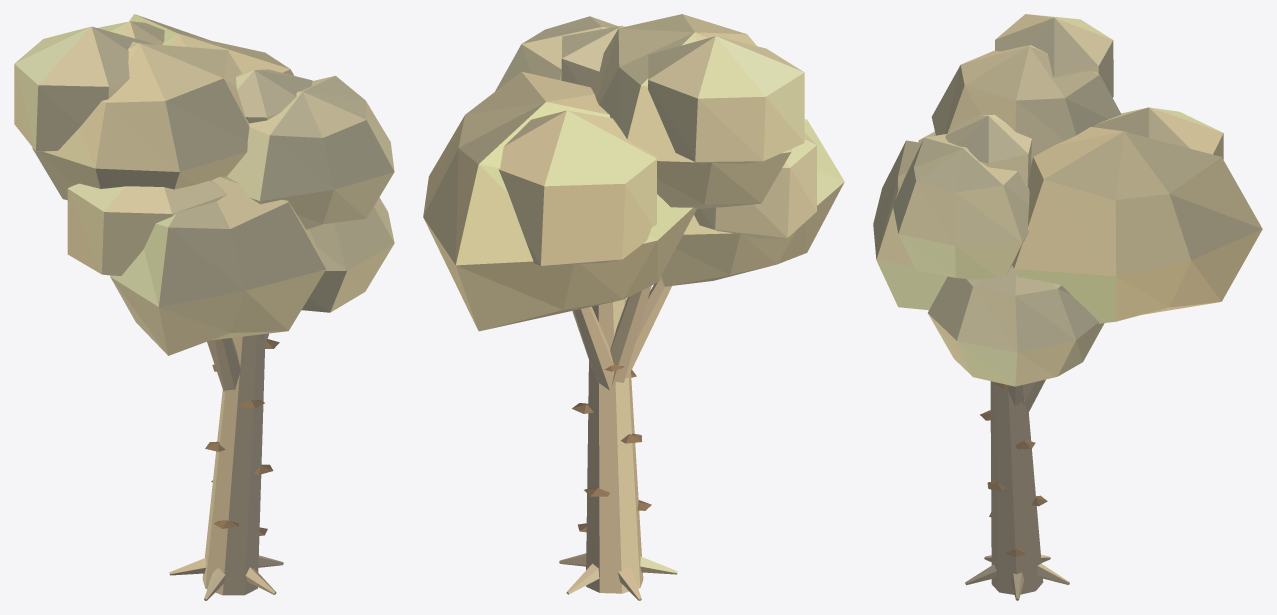
Rendered from extension_node_9_snow.glb.
3 views of the same model, side by side, from view 1: azimuth 30°, elevation 25°; view 2: azimuth 150°, elevation 25°; view 3: azimuth 270°, elevation 25° (orthographic). The views are drawn at different scales.
Visible parts, largest first — view 1: extension_node_9_snow; view 2: extension_node_9_snow; view 3: extension_node_9_snow.
Boxes of the visible parts, x1,y1,x2,y2 form: extension_node_9_snow: [14, 14, 394, 600]; extension_node_9_snow: [423, 14, 844, 600]; extension_node_9_snow: [873, 14, 1262, 600].
Size of the model in its own units: 2.44 by 3.86 by 2.64.
